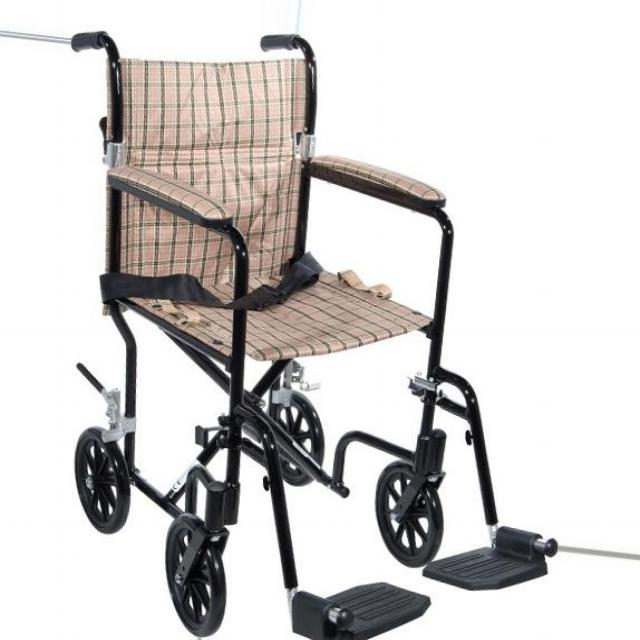wheelchair: (51, 12, 578, 640)
